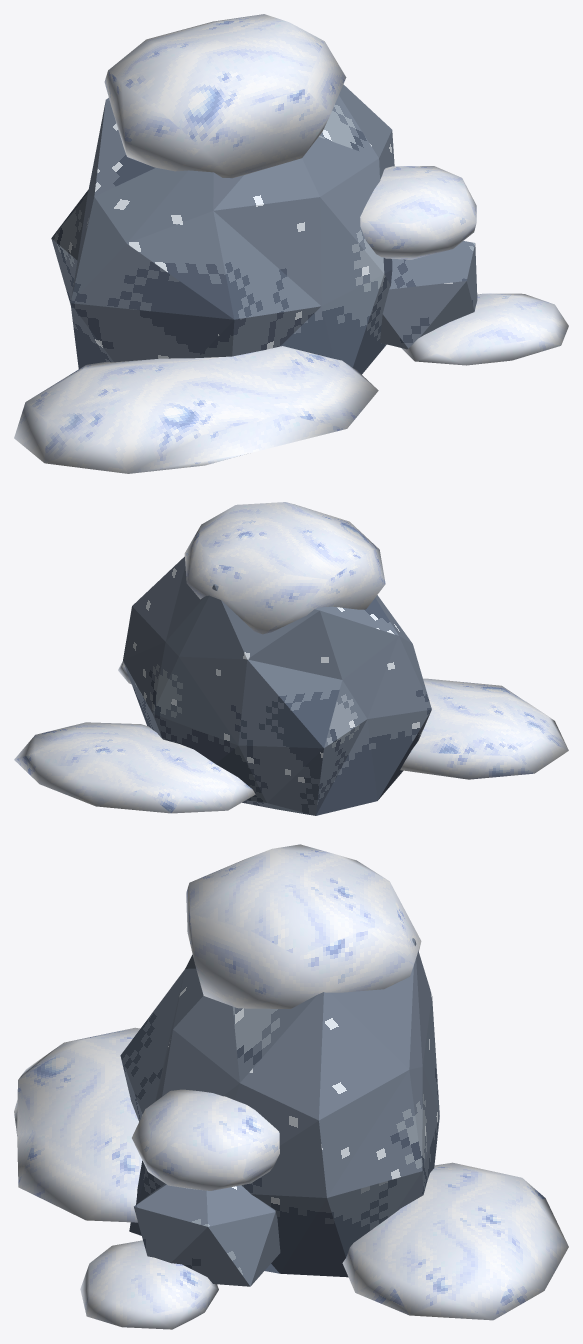
File: glacier_boulder.glb
3 views of the same model, one above another, from view 1: azimuth 30°, elevation 25°; view 2: azimuth 150°, elevation 25°; view 3: azimuth 270°, elevation 25° (orthographic). The views are drawn at different scales.
Parts seen in each view (by area): view 1: Snow, Boulder; view 2: Boulder, Snow; view 3: Snow, Boulder.
Part boxes in pixels (bbox=[...]): Snow: bbox=[14, 14, 568, 473]; Boulder: bbox=[51, 84, 477, 374]; Boulder: bbox=[123, 556, 431, 815]; Snow: bbox=[14, 502, 568, 813]; Snow: bbox=[14, 844, 568, 1329]; Boulder: bbox=[120, 938, 439, 1286].
Size of the model in its own units: 4.63 by 2.62 by 3.85.
Materials: 2 (2 with a texture image).
